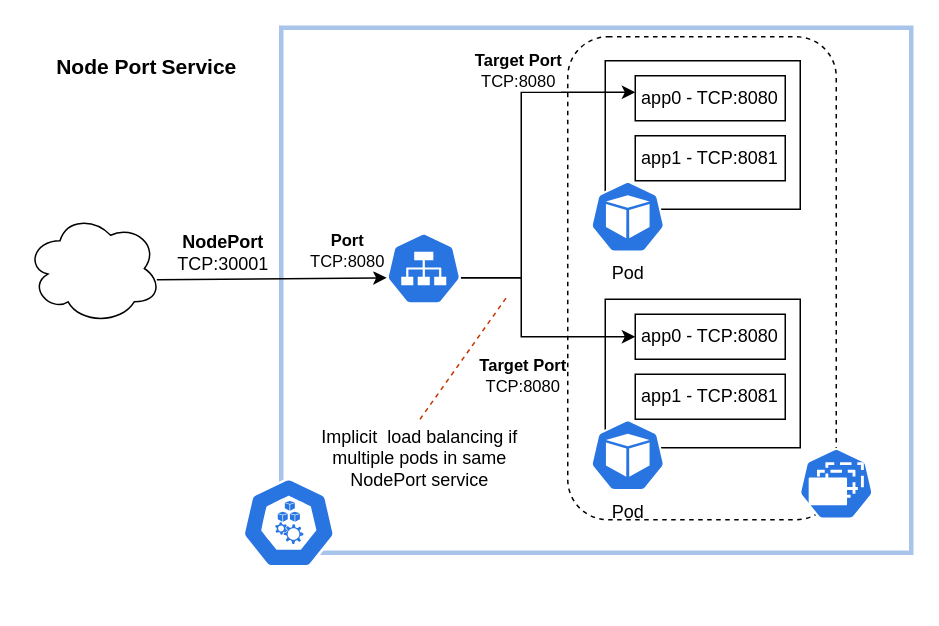
This 939x626 diagram has some shape labels left out. Each missing label, with the box of its shape:
NodePort Service: (385, 231, 461, 304)
ReplicaSet (2): (775, 446, 896, 520)
Worker Node: (235, 476, 341, 568)
